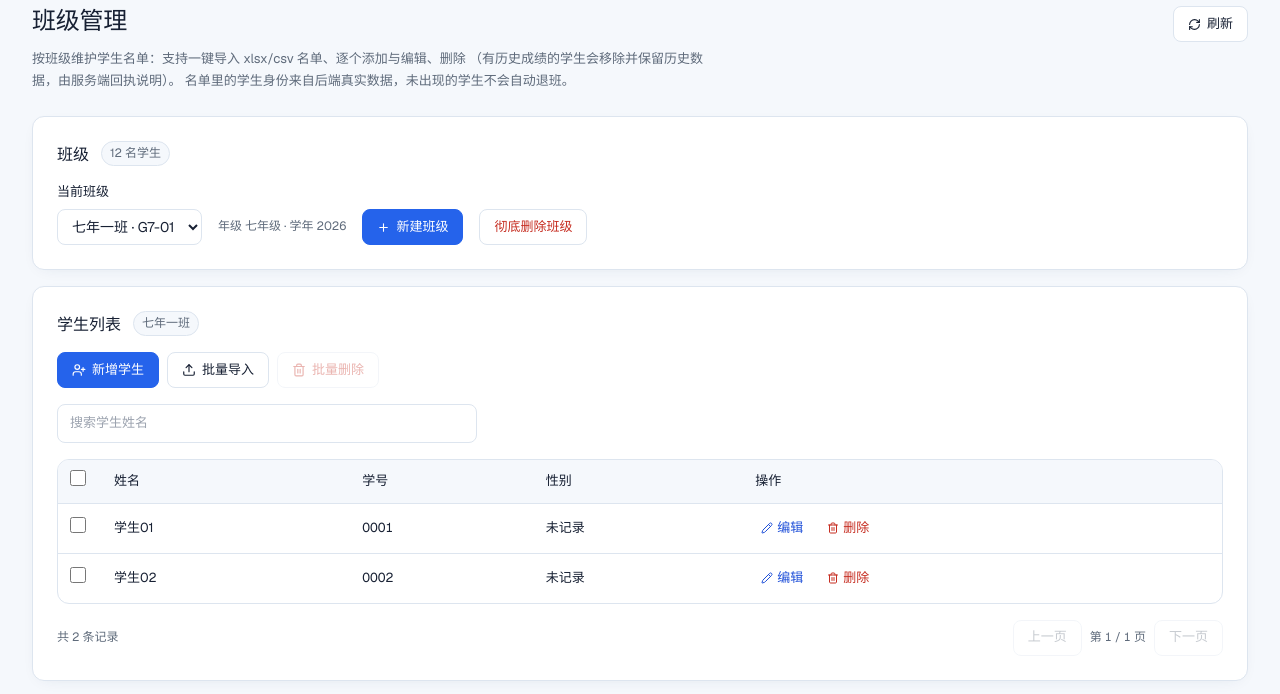
Test: 班级管理页：删除学生（DELETE 回执两模式，R10-FE） › 批量删除逐人 DELETE，「未全部完成」时按人列出失败原因并保留未成功的选中
Expected: the text "学生01" is shown, [114,519,154,536]
Click the checkbox named "全选本页学生".
click(78, 478)  # box [70,470,86,486]
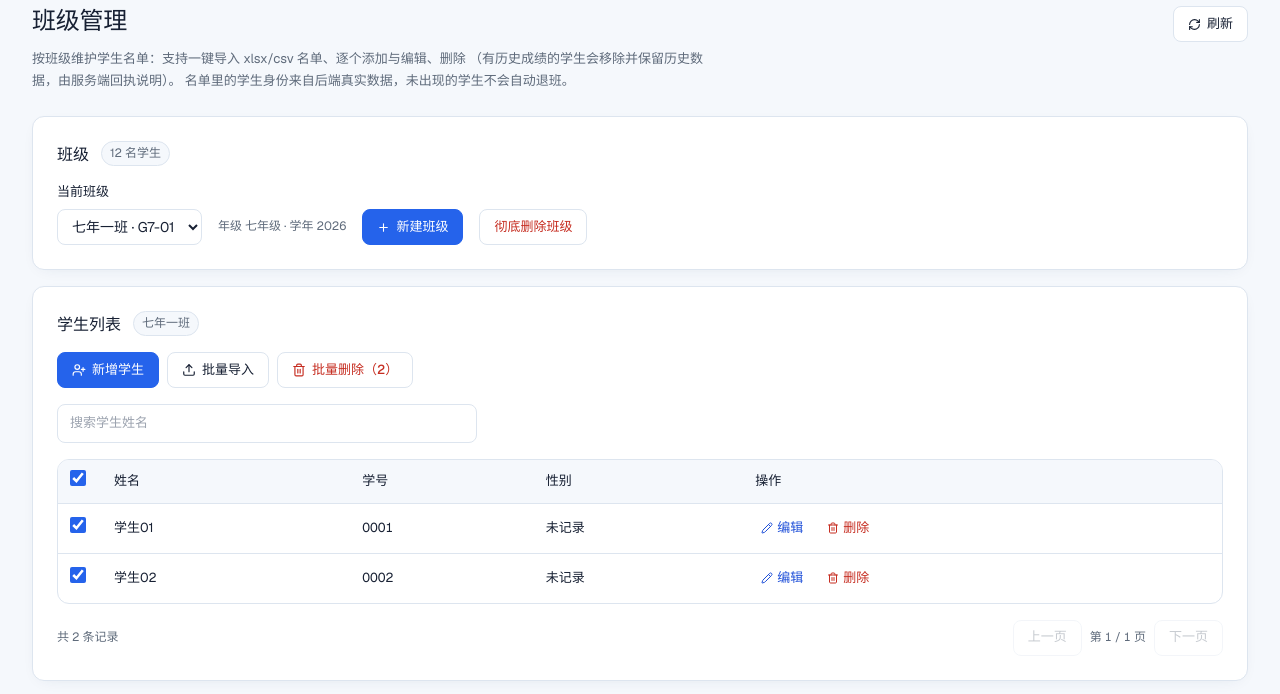
Expected: the button with test id "assessments-student-batch-delete" reads "批量删除（2）"
Click the button with test id "assessments-student-batch-delete".
click(345, 370)  # box [277,352,413,388]
(page scrolled)
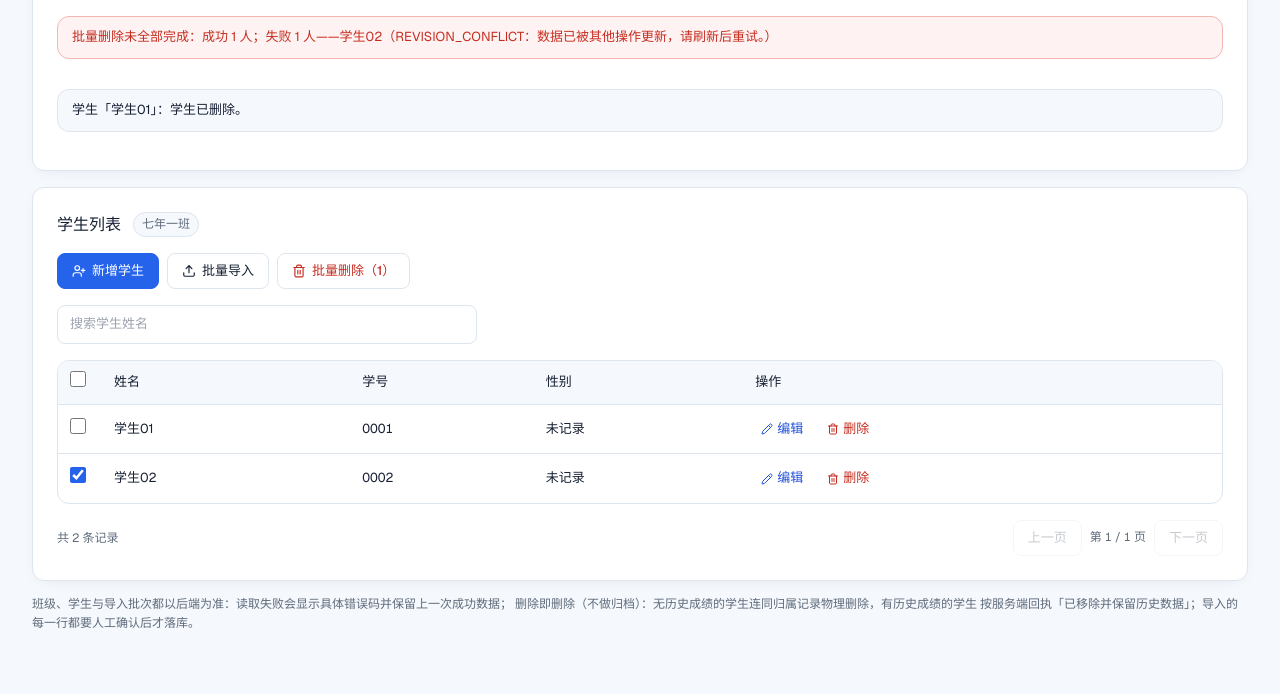
Expected: the message with test id "assessments-roster-write-error" shows "批量删除未全部完成", [72,28,778,45]
Expected: the message with test id "assessments-roster-write-error" shows "学生02（REVISION_CONFLICT：数据已被其他操作更新，请刷新后重试。）", [72,28,778,45]
Expected: the message with test id "assessments-roster-write-error" shows "成功 1 人；失败 1 人", [72,28,778,45]
